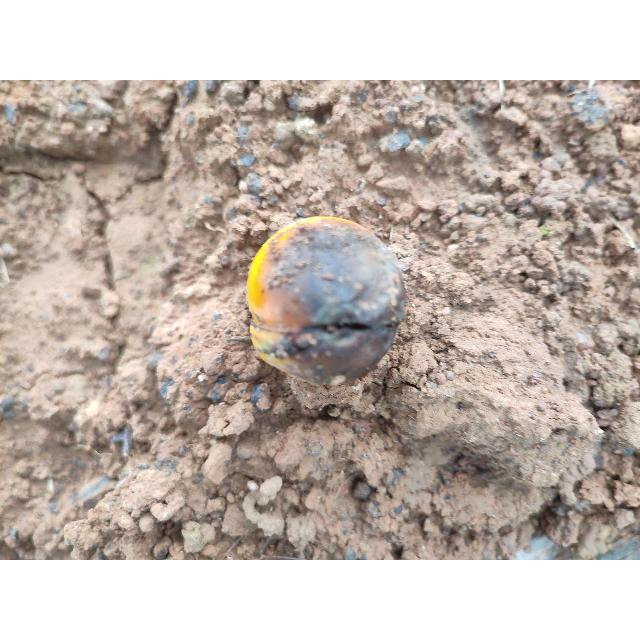damaged: (247, 216, 405, 383)
